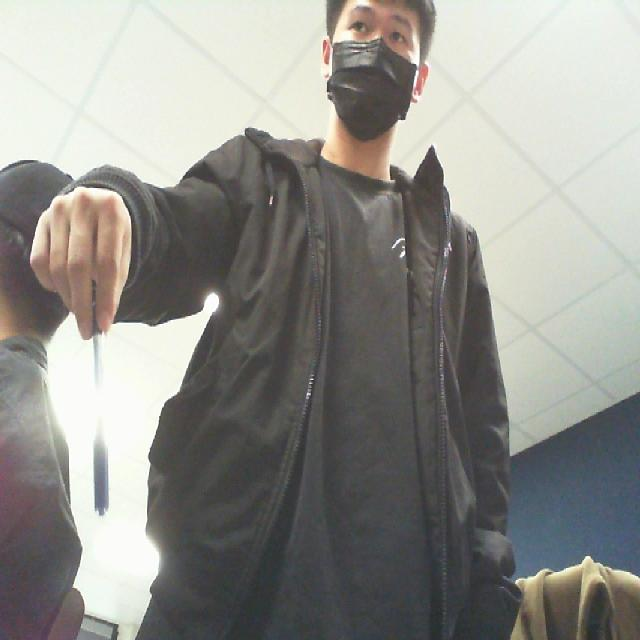Pen: (64, 262, 133, 565)
